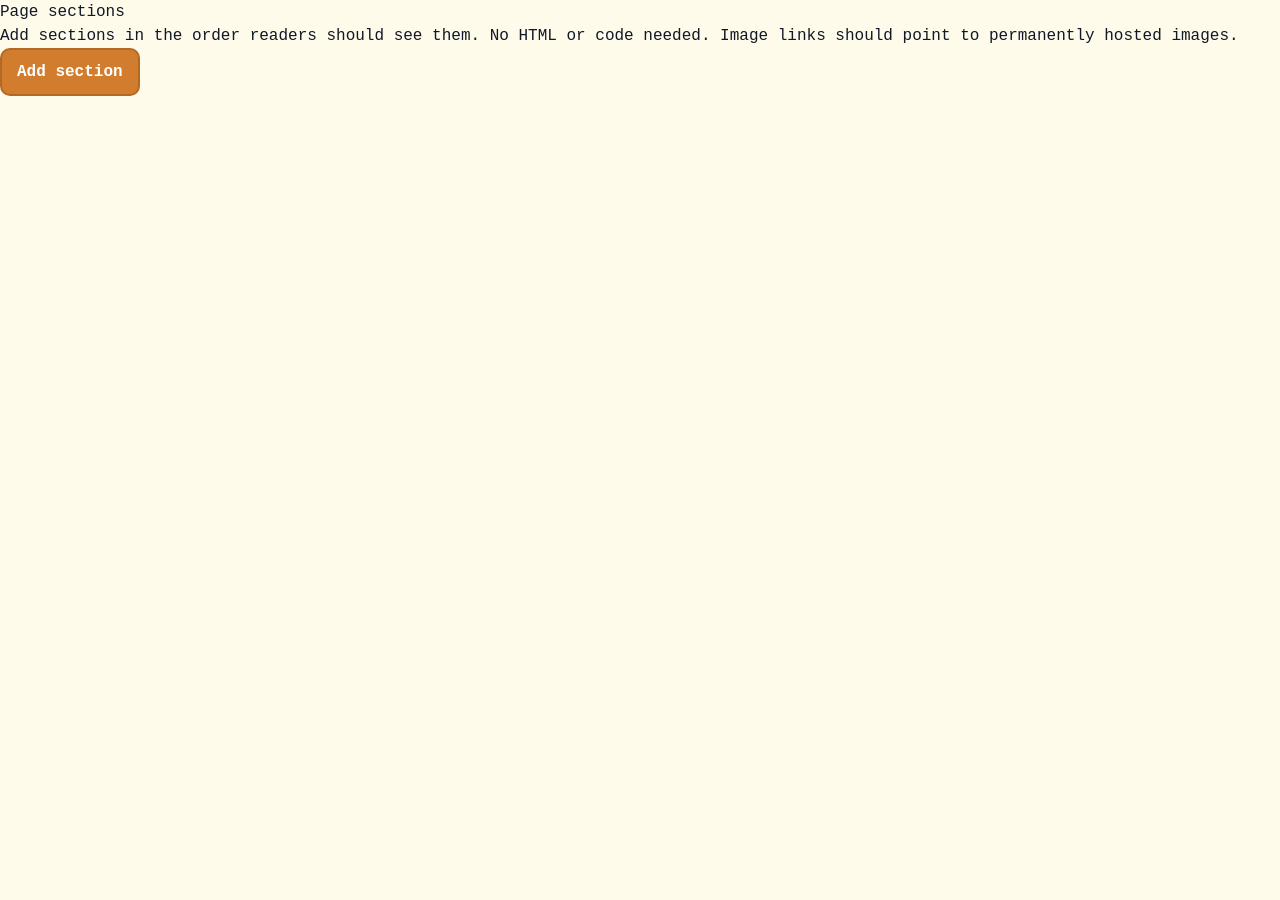
Test case: authors can add, reorder and remove sections without writing code
Later steps or results of the test are not shown.
Click the button "Add section" at (70, 72), box [0,48,140,96]
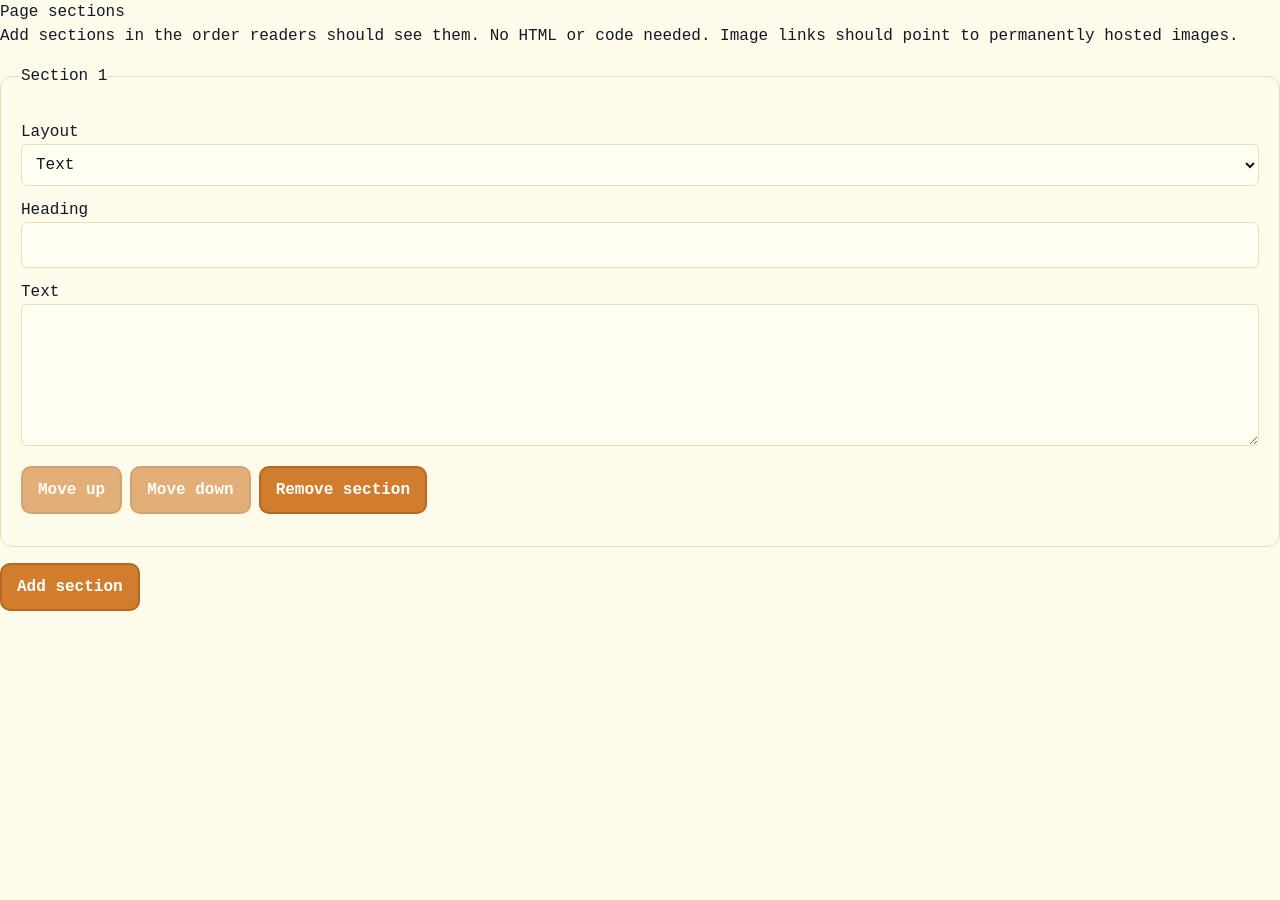
Type "First" into the field labelled "Heading" at (640, 245), box [21,222,1259,268]
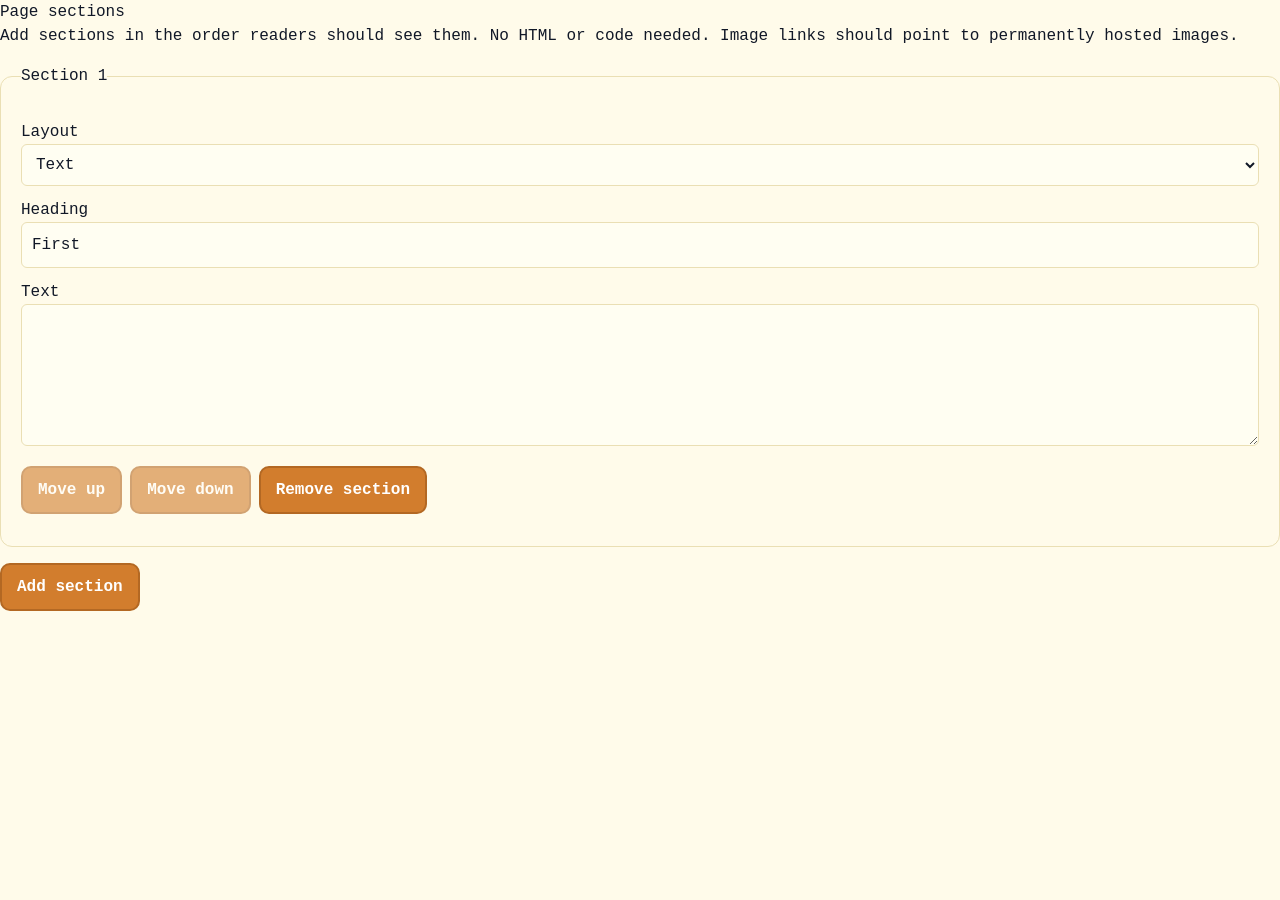
Type "First body" into the text box labelled "Text" at (640, 375), box [21,304,1259,446]
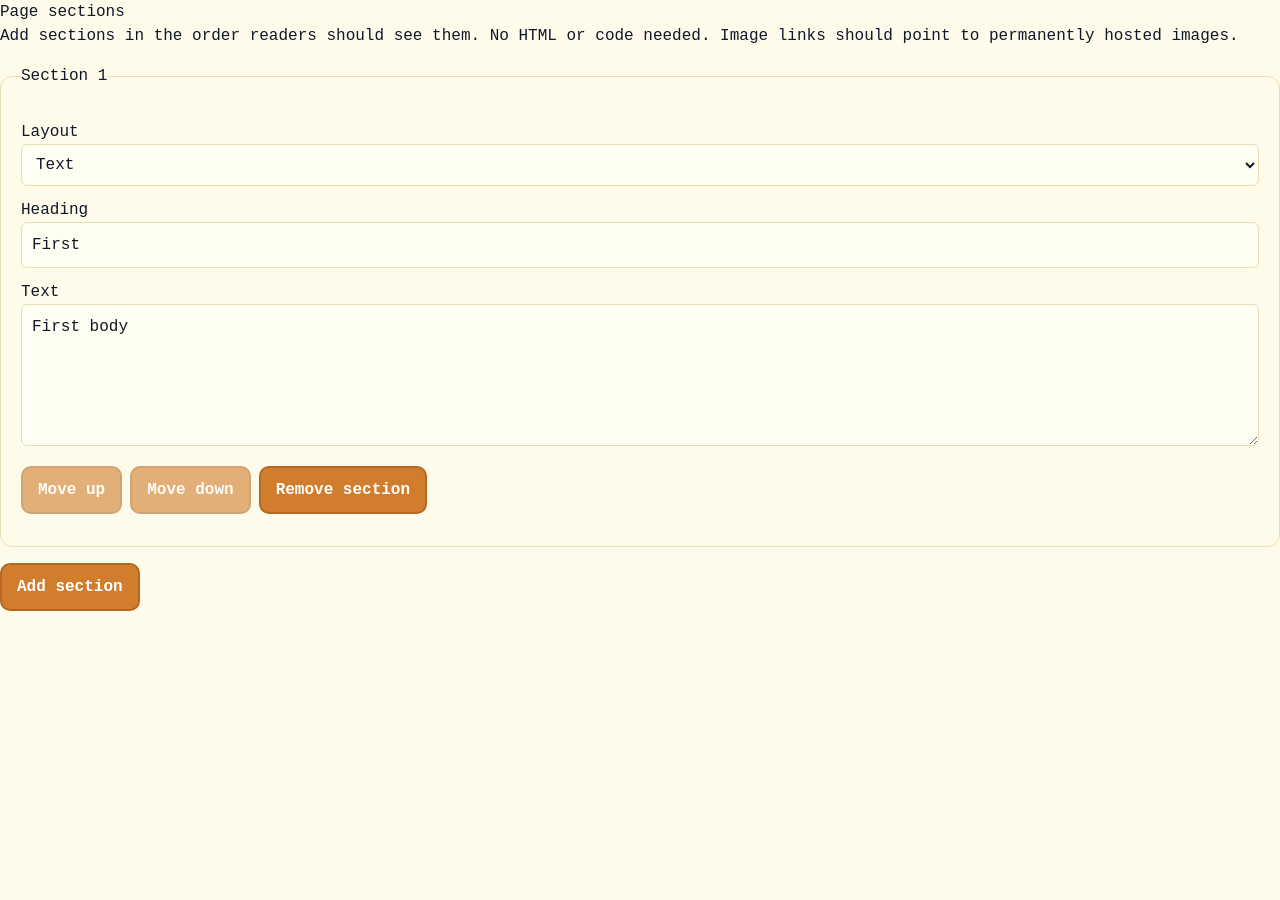
Click the button "Add section" at (70, 587), box [0,563,140,611]
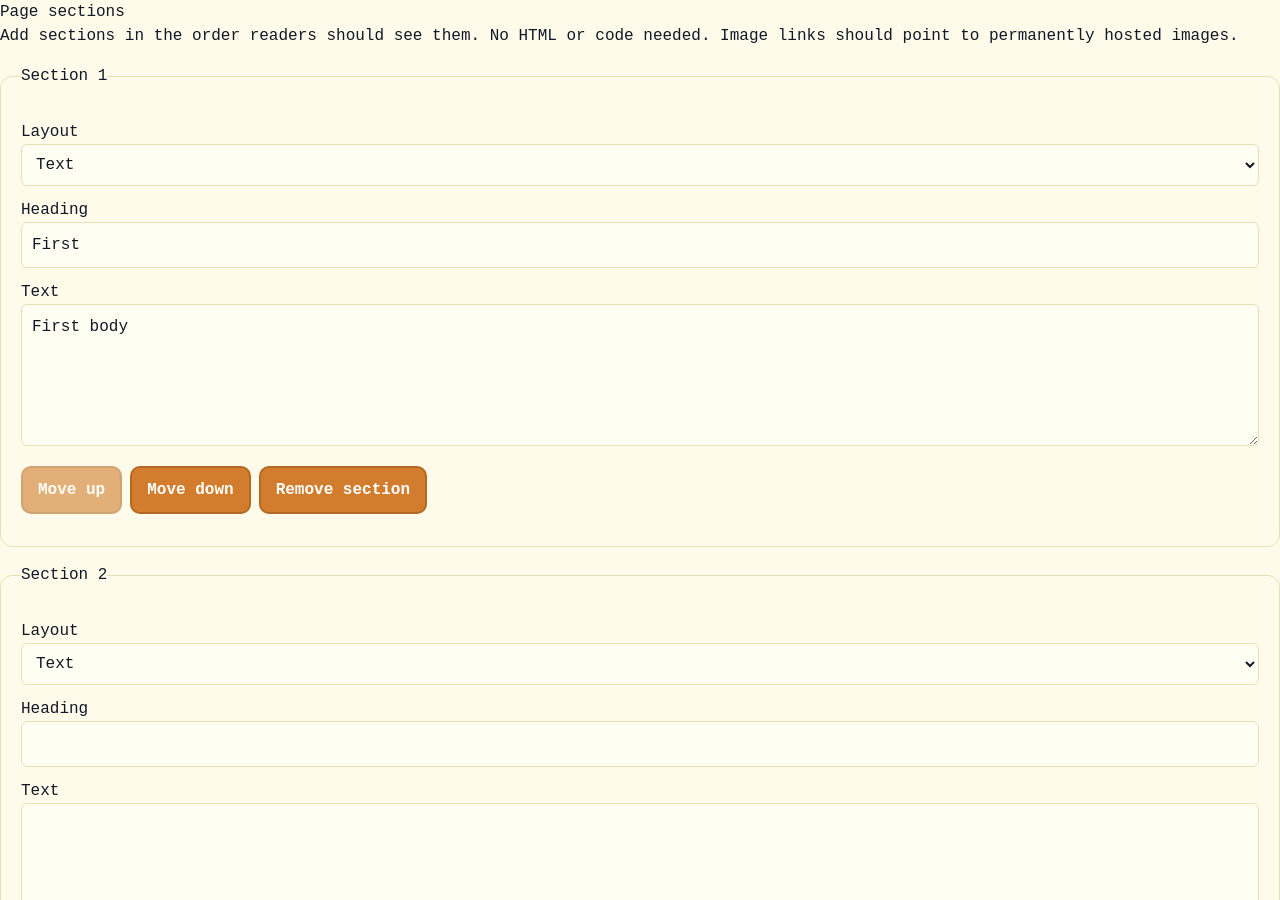
Type "Second" into the 2nd field labelled "Heading" at (640, 744), box [21,721,1259,767]
(page scrolled)
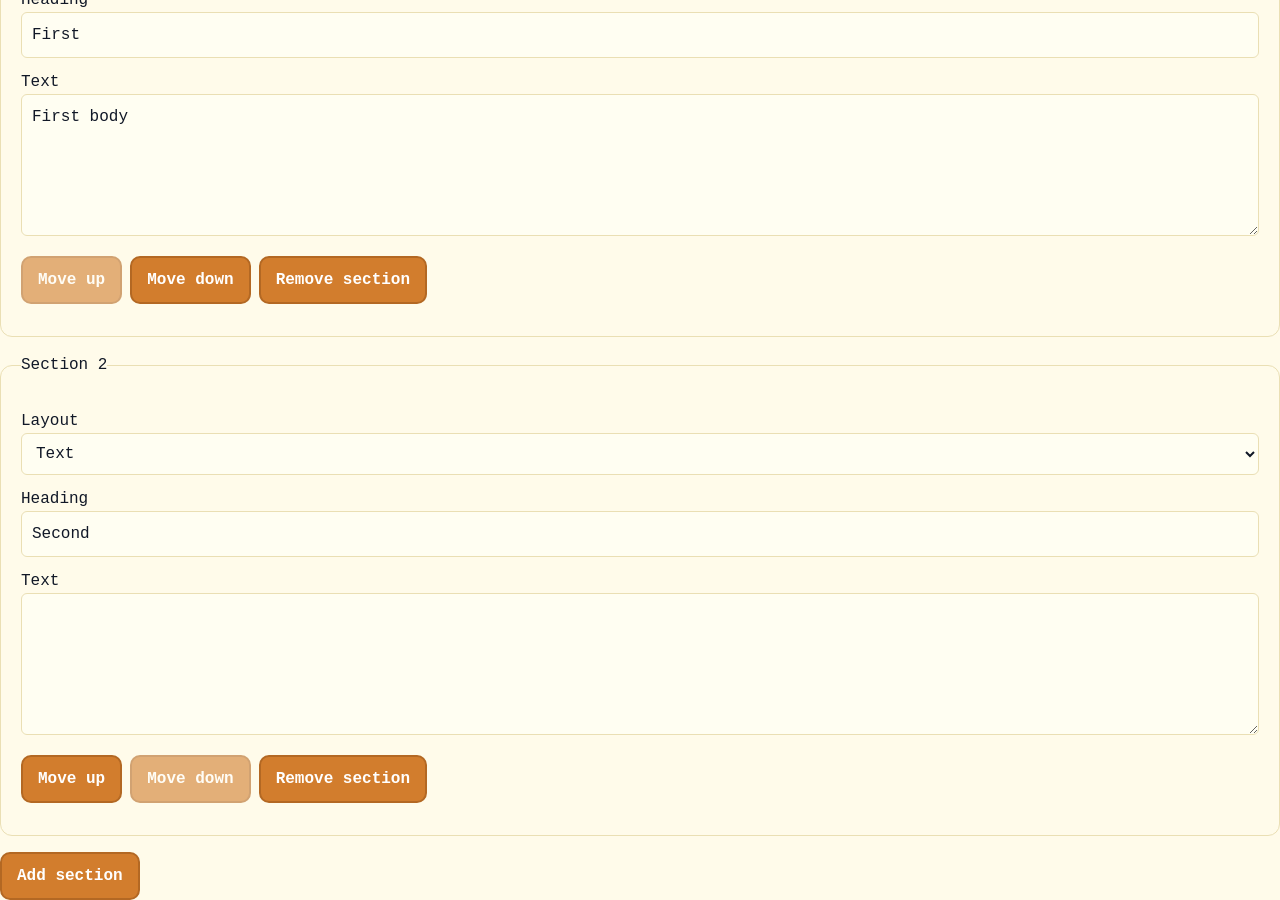
Click the 2nd button "Move up" at (72, 779), box [21,755,122,803]
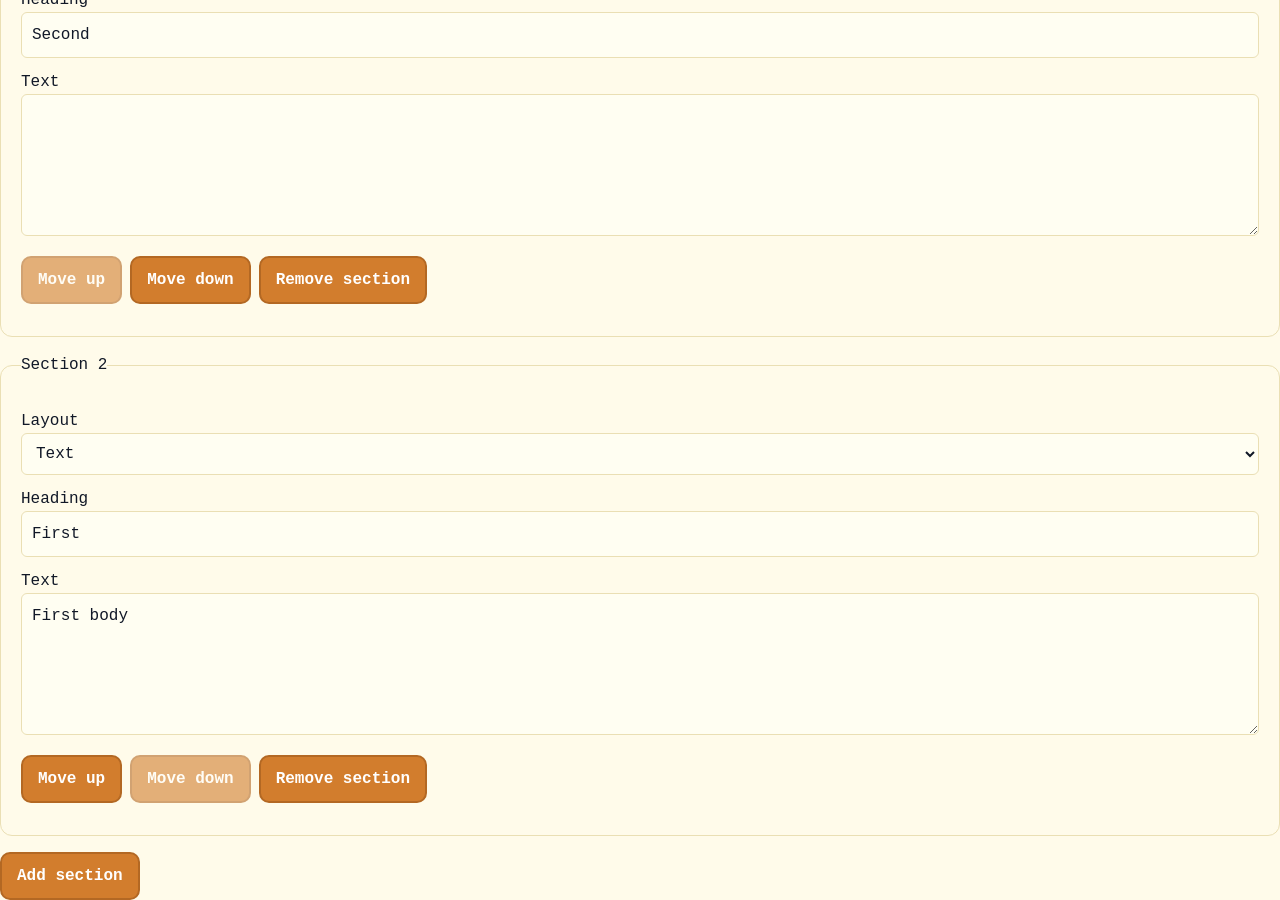
expect the 1st field labelled "Heading" holds "Second": met, box [21,12,1259,58]
expect the 2nd text box labelled "Text" holds "First body": met, box [21,593,1259,735]
